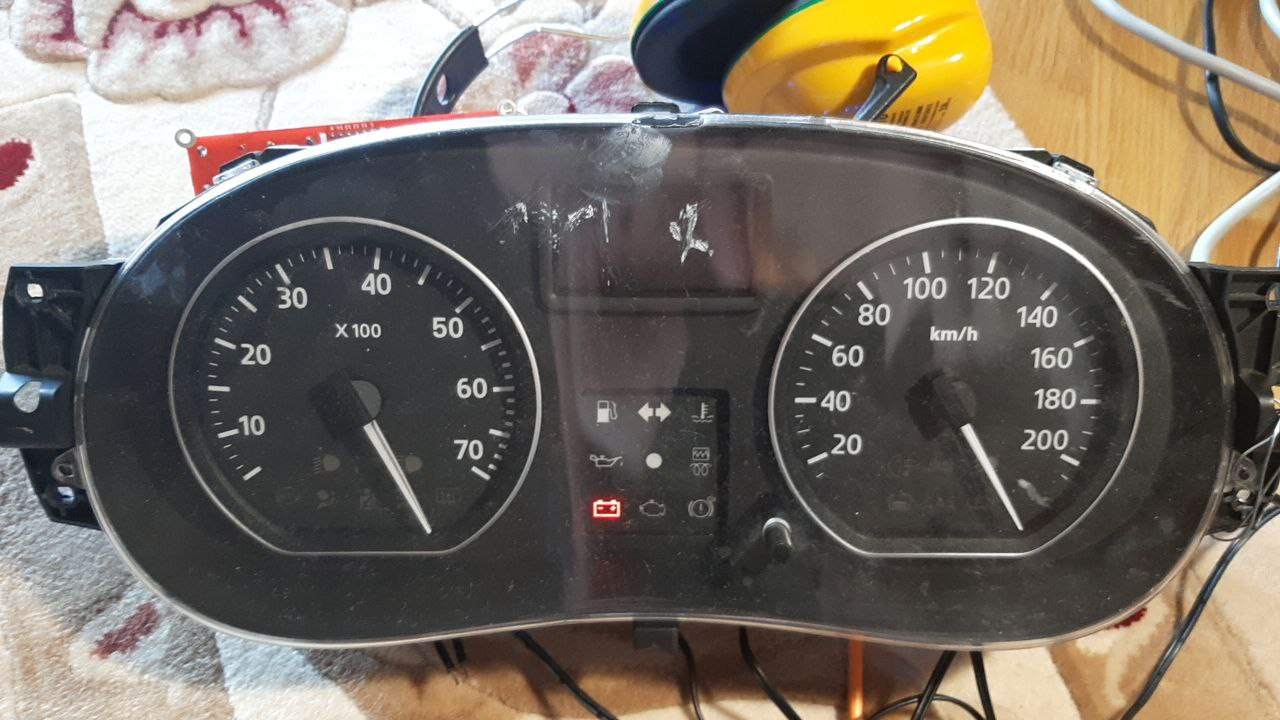accumulator: (585, 497, 629, 523)
